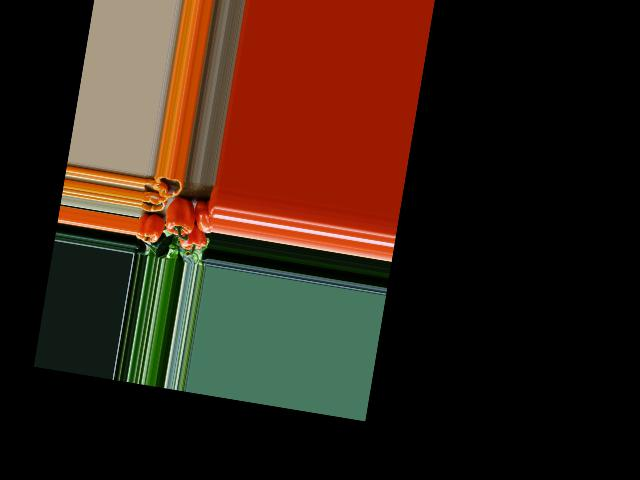bell_pepper: (191, 197, 216, 234)
